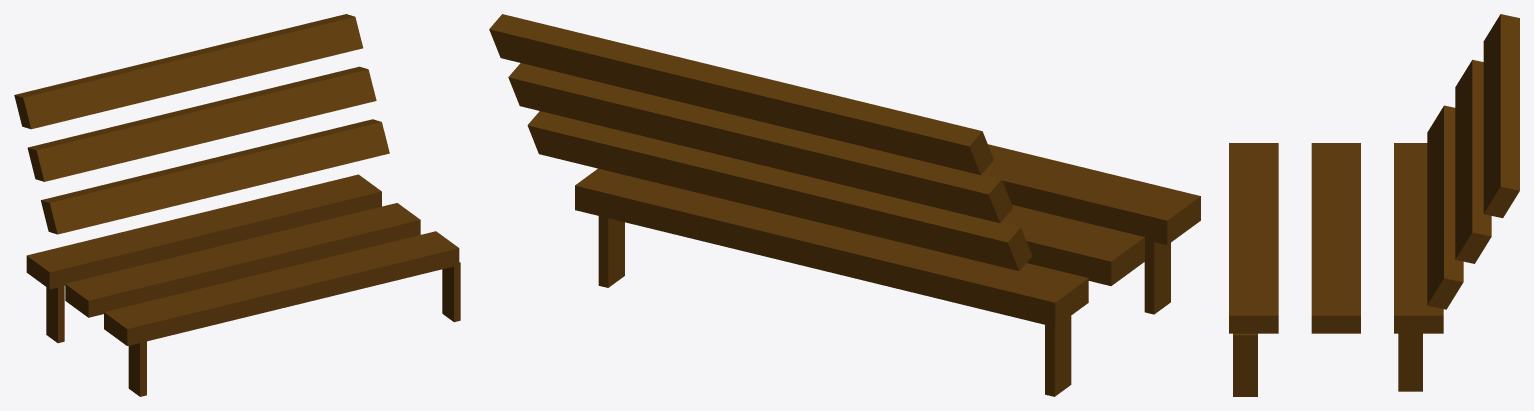
File: banquita.gltf
3 renders of one model, left to right at view 1: azimuth 30°, elevation 25°; view 2: azimuth 150°, elevation 25°; view 3: azimuth 270°, elevation 25°, orthographic. The views are drawn at different scales.
Visible parts, largest first — view 1: Mesh_Mesh_head_geo.001_lambert2SG.001; view 2: Mesh_Mesh_head_geo.001_lambert2SG.001; view 3: Mesh_Mesh_head_geo.001_lambert2SG.001.
Boxes of the visible parts, bbox=[...] form: Mesh_Mesh_head_geo.001_lambert2SG.001: bbox=[14, 14, 460, 396]; Mesh_Mesh_head_geo.001_lambert2SG.001: bbox=[489, 14, 1200, 396]; Mesh_Mesh_head_geo.001_lambert2SG.001: bbox=[1229, 14, 1519, 396].
Bounding box in the file's own units: 106 × 59 × 70.48.
